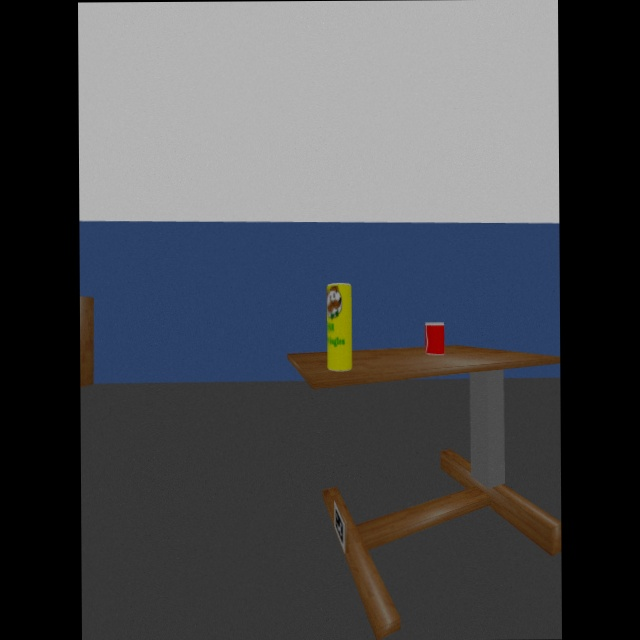chipsdose_gelb: (326, 282, 352, 371)
